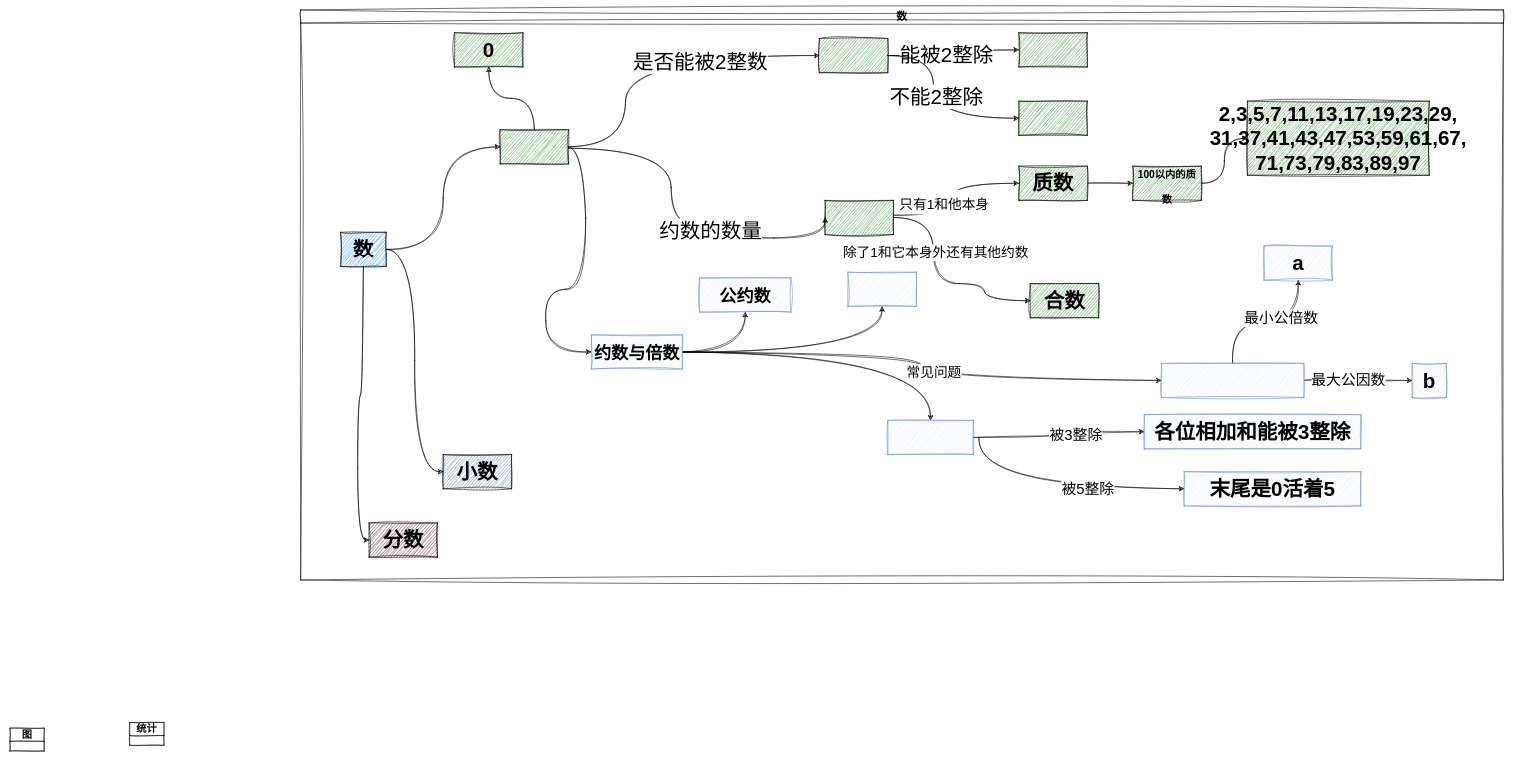
This 1513x761 diagram has some shape labels left out. The centre of each missing label's shape, as x and y in pixels:
"a÷b=c,c是整数" belongs at (x=1232, y=380).
"偶数" belongs at (x=1052, y=49).
"公倍数" belongs at (x=881, y=289).
"判断整除" belongs at (x=930, y=437).
"合质数" belongs at (x=859, y=217).
"奇偶数" belongs at (x=853, y=55).
"奇数" belongs at (x=1052, y=118).
"自然数" belongs at (x=534, y=146).
